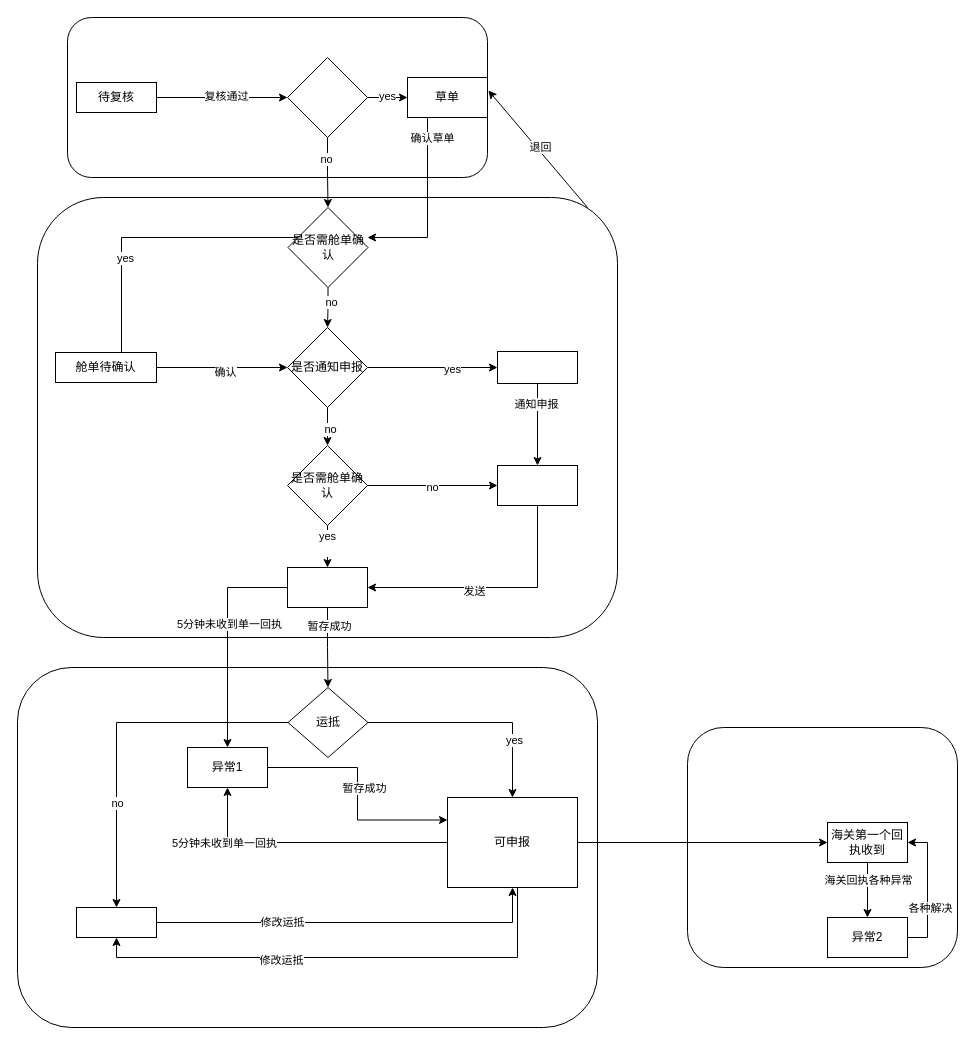
The diagram is 975 pixels wide and 1045 high, and some of its shapes have lost their labels. The shapes that lost their labels are listed below. From the top down, each one's box as (x1, y1, x2, y2) in pixels, then its label:
(286, 56, 368, 138): 是否需草单确认
(496, 350, 578, 384): 待通知
(496, 464, 578, 506): 可发送
(286, 566, 368, 608): 发送中
(76, 906, 156, 938): 不可申报
